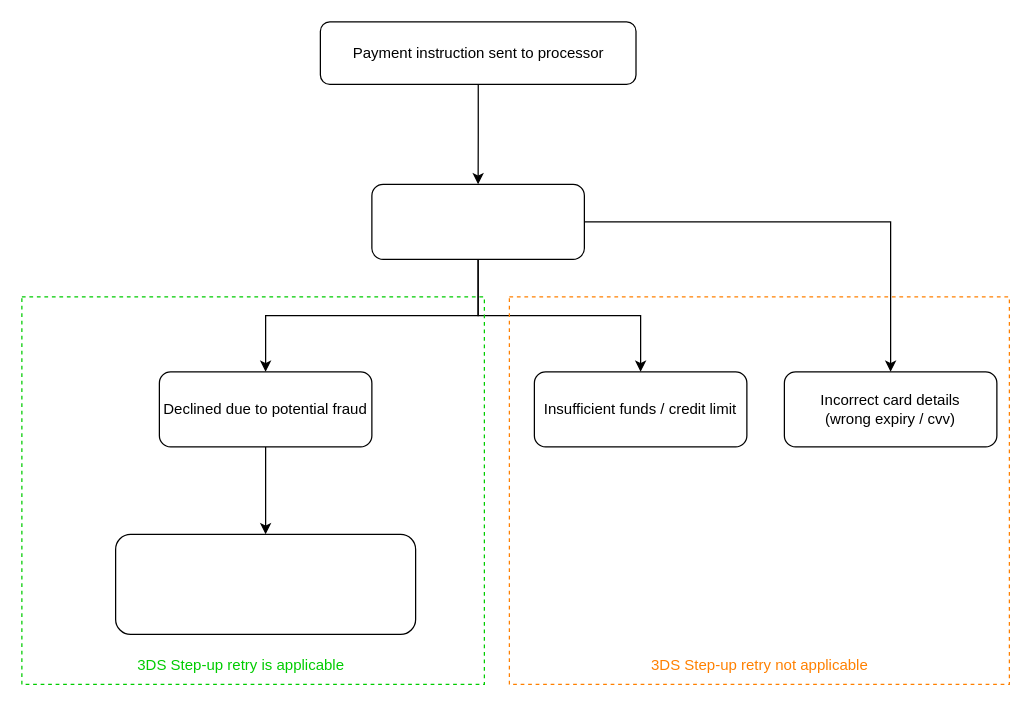
This 1031x706 diagram has some shape labels left out. The shapes that lost their labels are listed below. From the top down, each one's box as (x1, y1, x2, y2) in pixels, then its label:
(371, 183, 584, 259): Payment failed (Business failure at processor)
(114, 533, 416, 634): 3DS Step-up retry with the same processor
